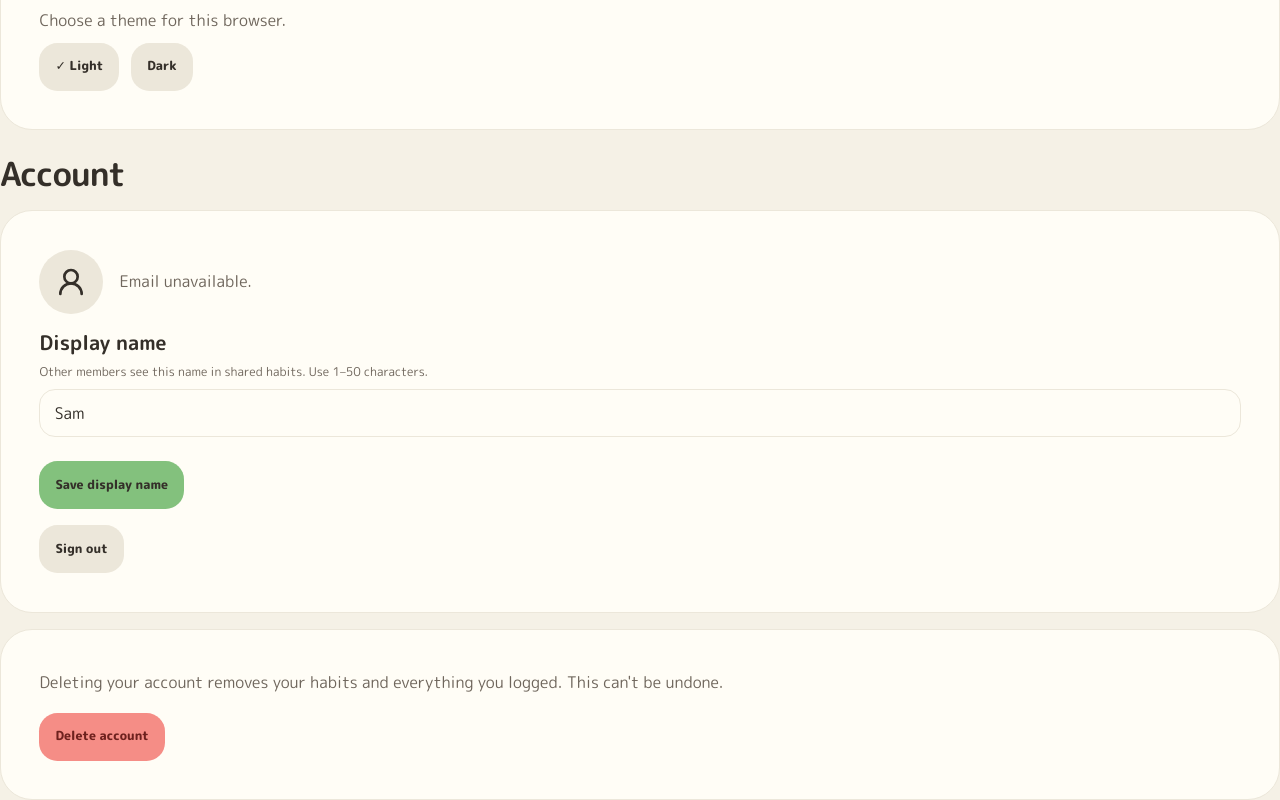
delete account › needs the confirmation typed before it deletes
(page scrolled)
Click the button "Delete account" at (102, 737), box [39,713,165,761]
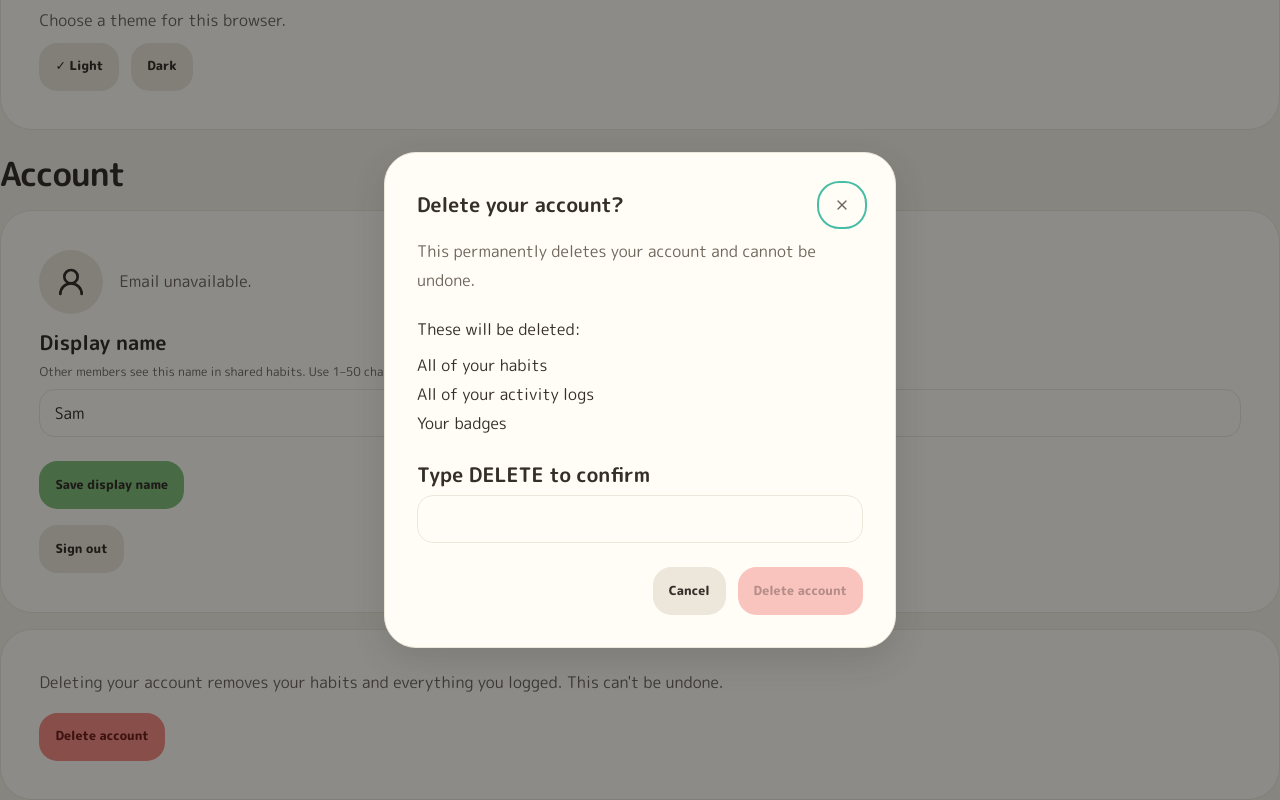
Expected: the button "Delete account" is disabled, [738,567,863,615]
Type "delete me" into the field labelled "Type DELETE to confirm" at (640, 519), box [417,495,863,543]
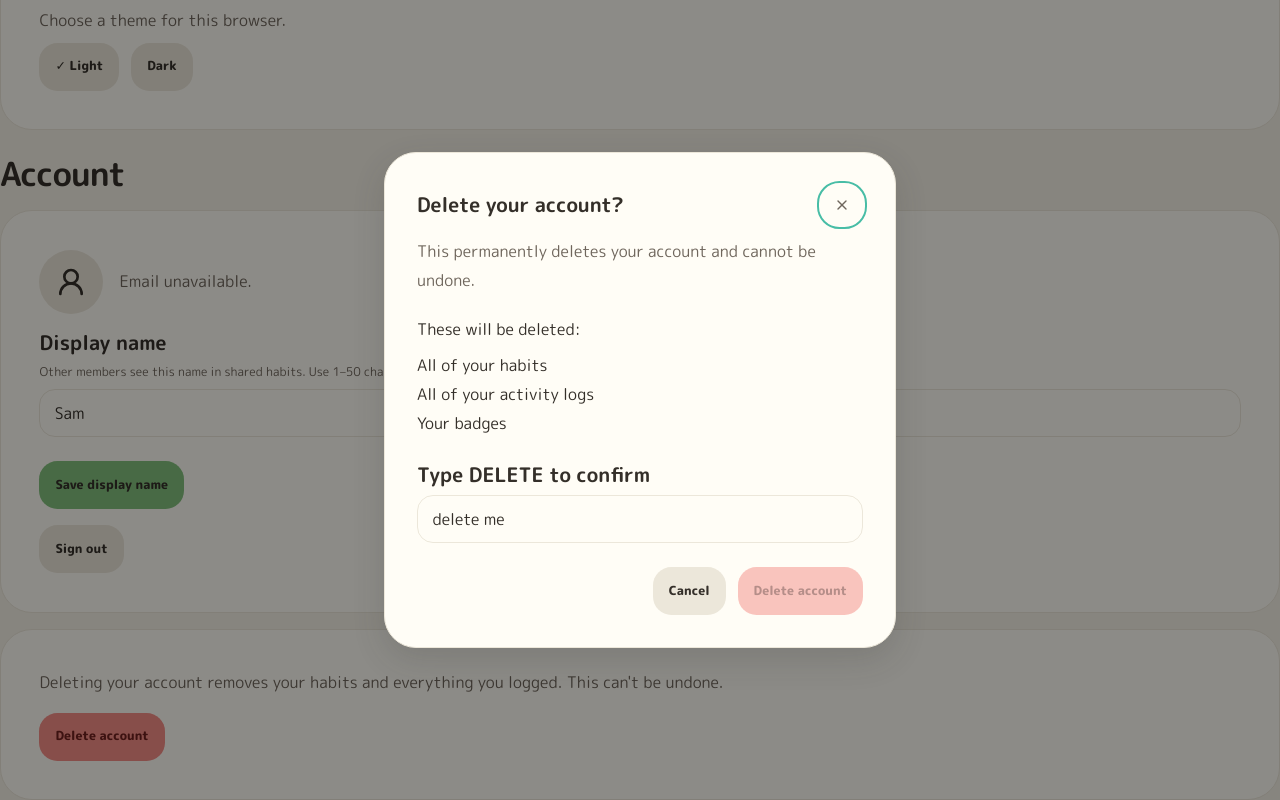
Expected: the button "Delete account" is disabled, [738,567,863,615]
Submit the form named "Type DELETE to confirm", box [417,314,863,615]
Replace the text in the field labelled "Type DELETE to confirm" with "DELETE" at (640, 519), box [417,495,863,543]
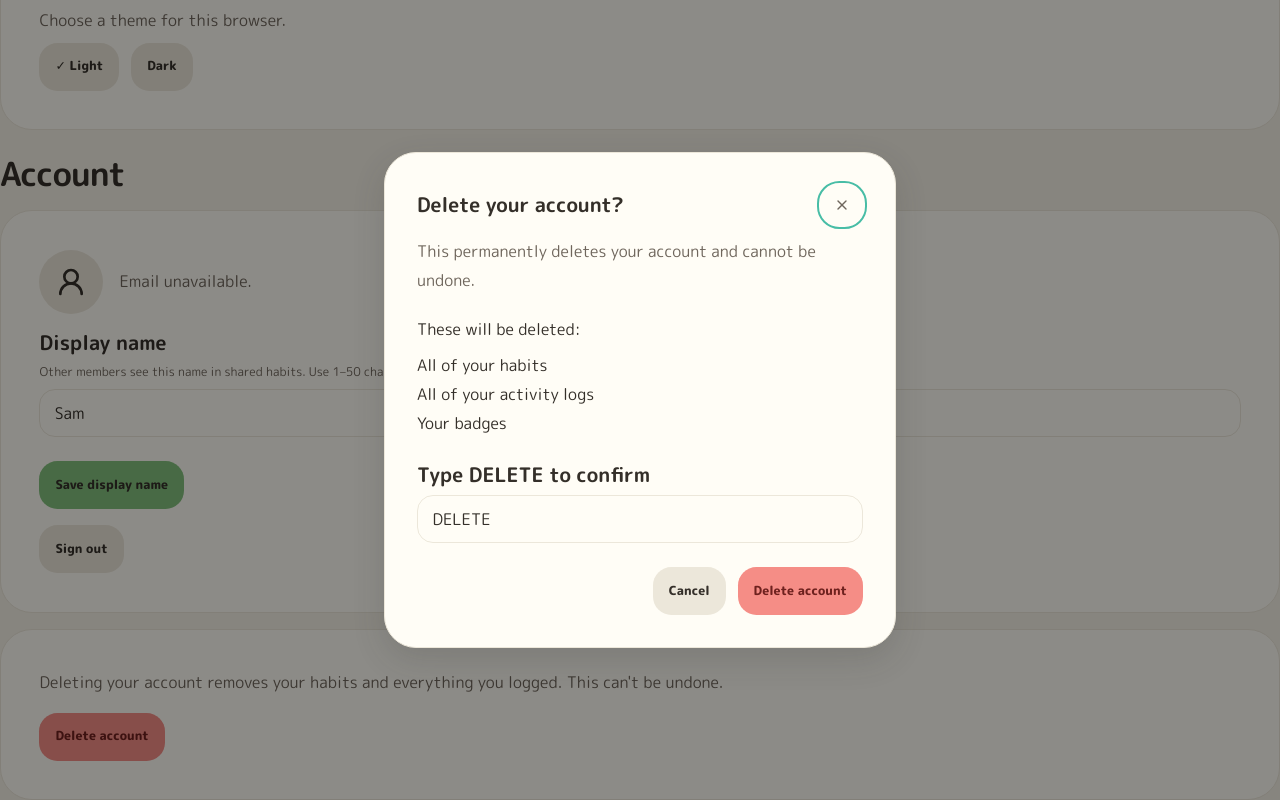
Expected: the button "Delete account" is enabled, [738,567,863,615]
